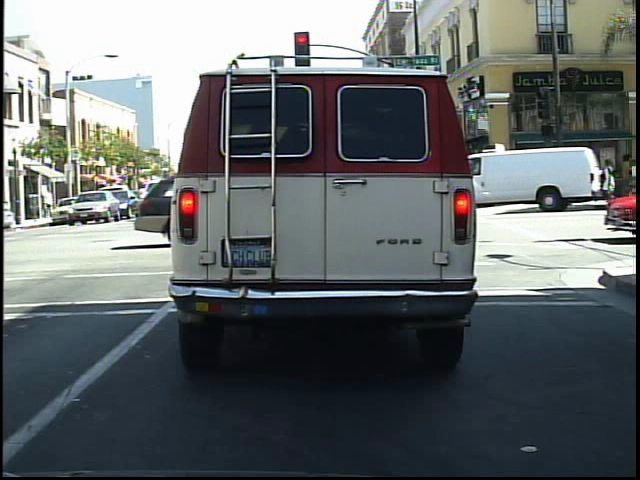person: (575, 143, 600, 210), (538, 152, 562, 209), (514, 154, 536, 207)
